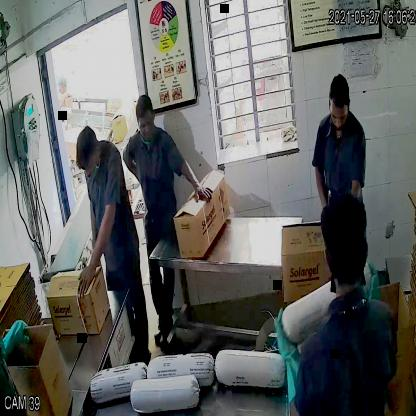no_goggles: (329, 105, 352, 128)
